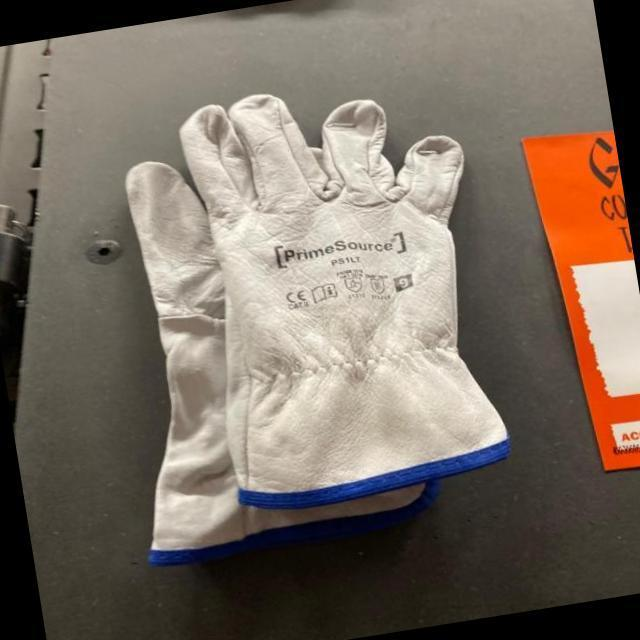Gloves: (123, 93, 511, 566)
